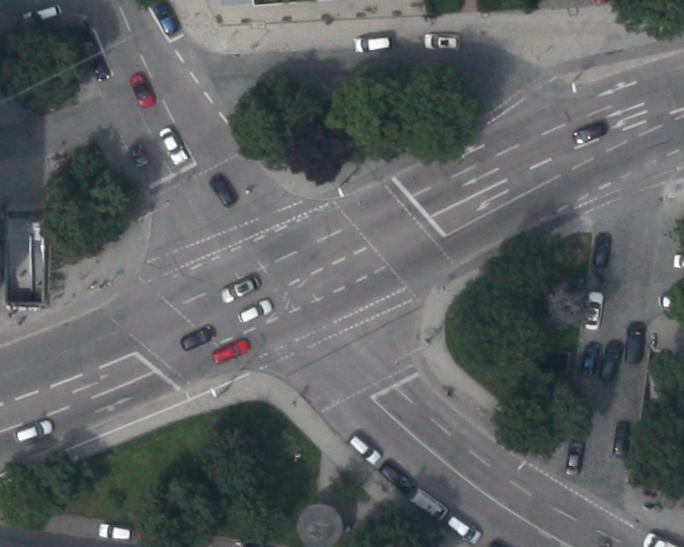car: (376, 458, 416, 496), (218, 272, 261, 304), (409, 488, 448, 522), (444, 511, 483, 545), (156, 125, 188, 166), (210, 336, 251, 366), (12, 418, 54, 446), (597, 338, 623, 382), (348, 434, 382, 466), (22, 1, 62, 28), (208, 172, 238, 207), (151, 0, 180, 36), (179, 324, 216, 352), (571, 118, 608, 146), (624, 319, 646, 364), (128, 72, 154, 110), (236, 298, 272, 325), (612, 419, 634, 460), (584, 290, 604, 332), (564, 436, 584, 476), (354, 34, 392, 54), (97, 522, 134, 542), (424, 32, 460, 51), (592, 231, 611, 267), (580, 344, 600, 376), (88, 56, 112, 82), (128, 143, 150, 169)
